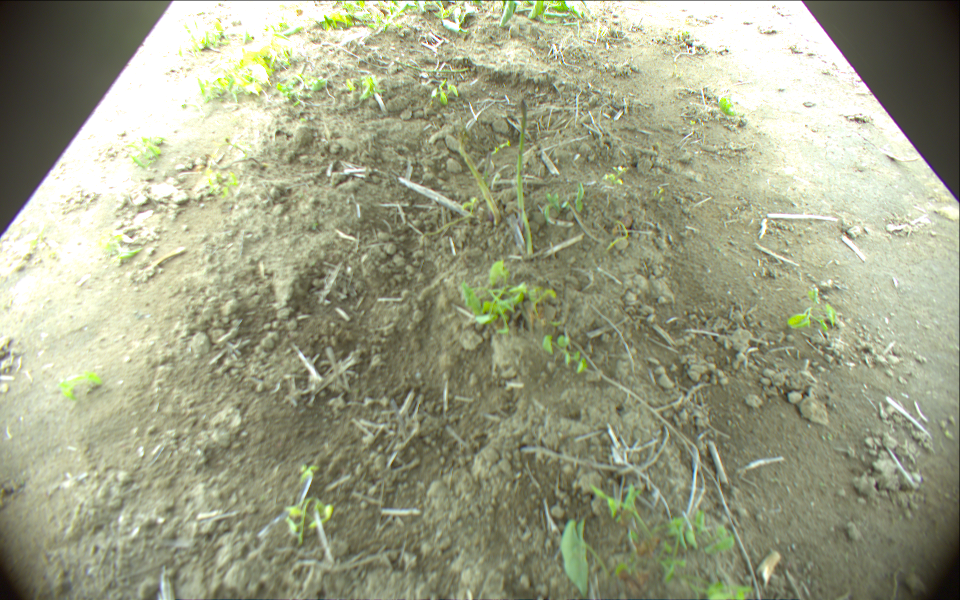aspa: (456, 122, 502, 225), (515, 100, 535, 255), (390, 57, 468, 75)
